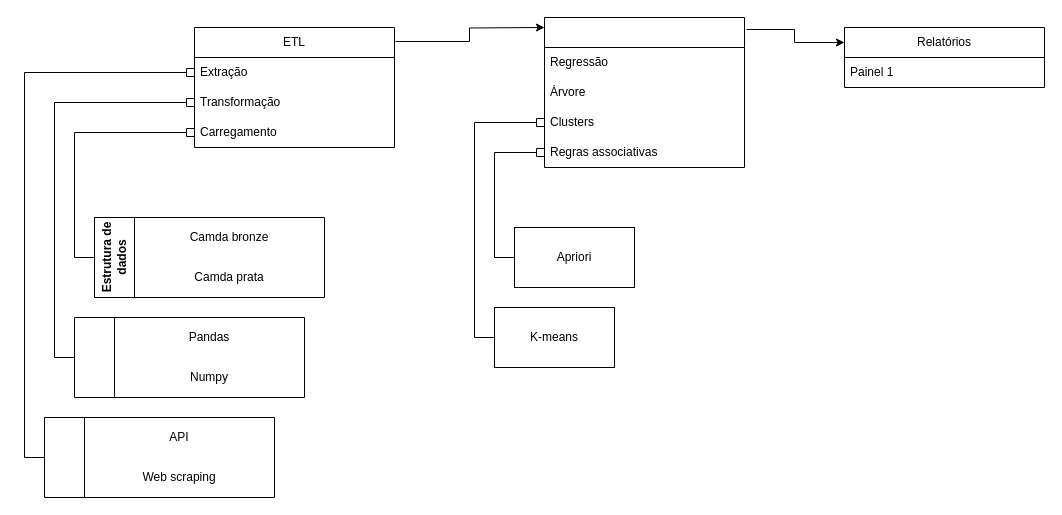
Image size: 1062x515. Some labels were removed from this diagram. Here are the shapes that lost their labels. From the top down, the box of each, then its label:
(544, 16, 744, 168): Análise
(74, 316, 304, 398): Bibliotecas
(44, 416, 274, 498): Fonte
